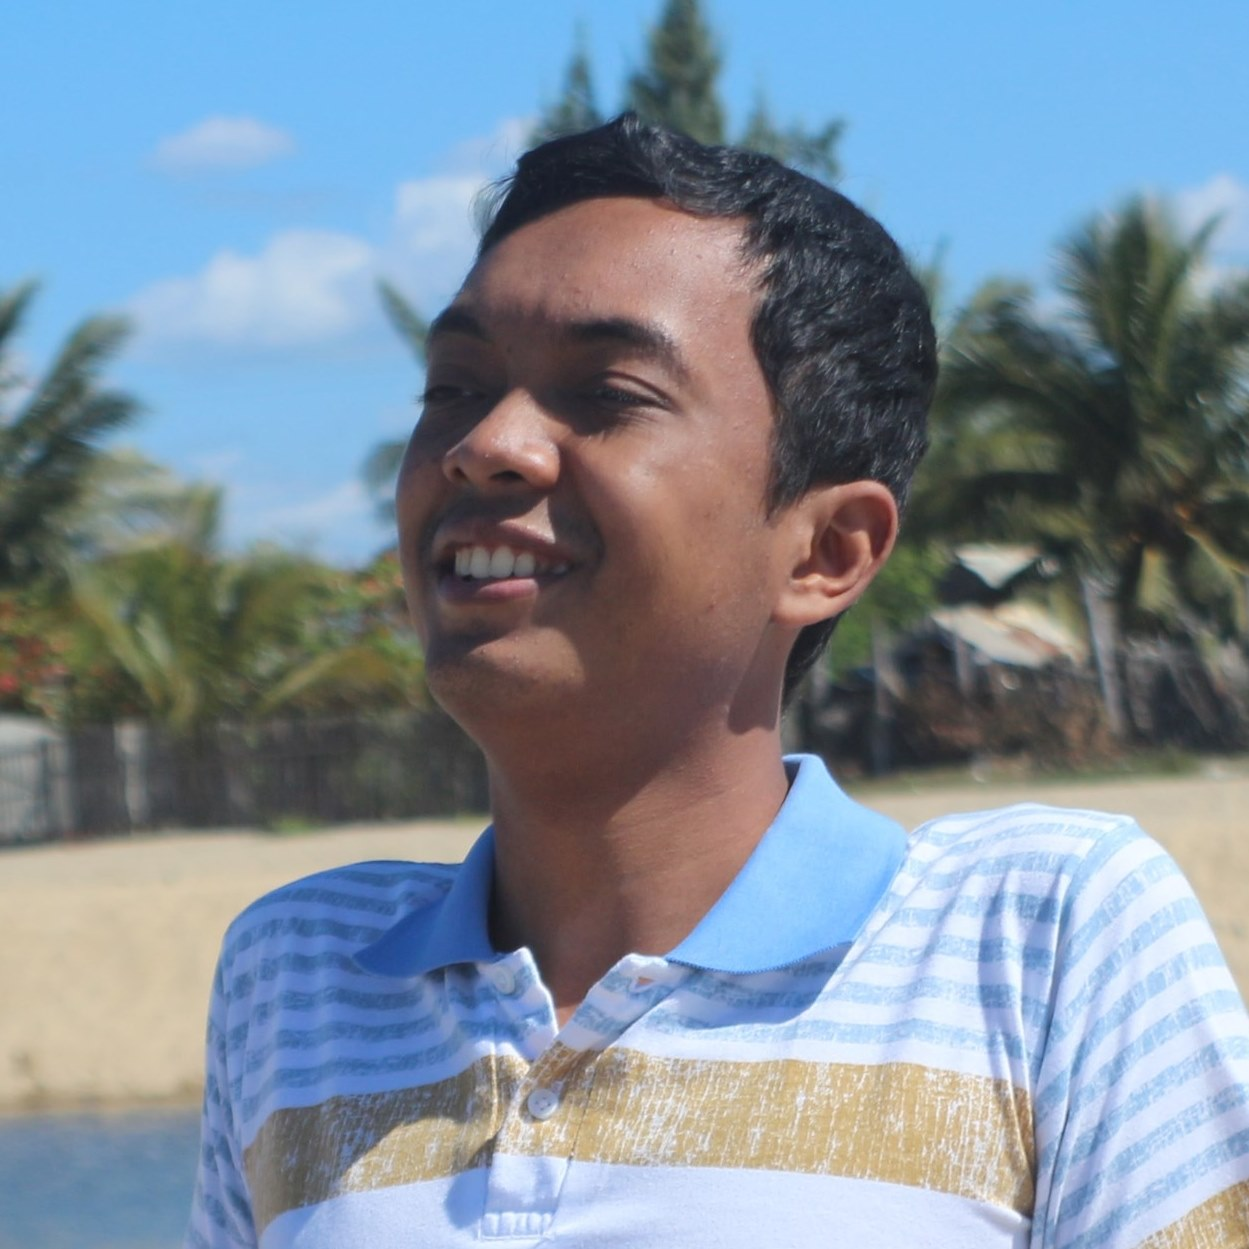BOY: (368, 114, 953, 759)
